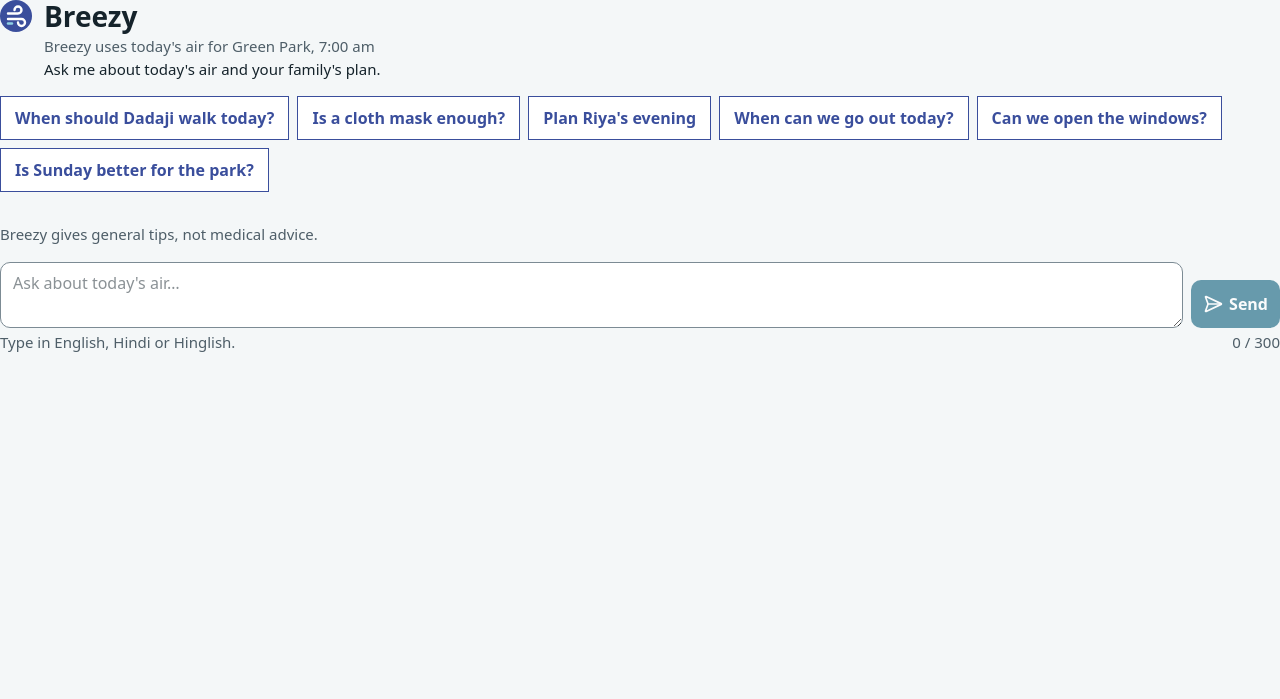
it: BreezyView › replies with a card, confirms the add naming the person, then offers WhatsApp
Type "Can Dadaji go to the temple at 7 am?" into the text box named "Your question for Breezy" at x=592, y=295, box left=0, top=262, right=1183, bottom=328
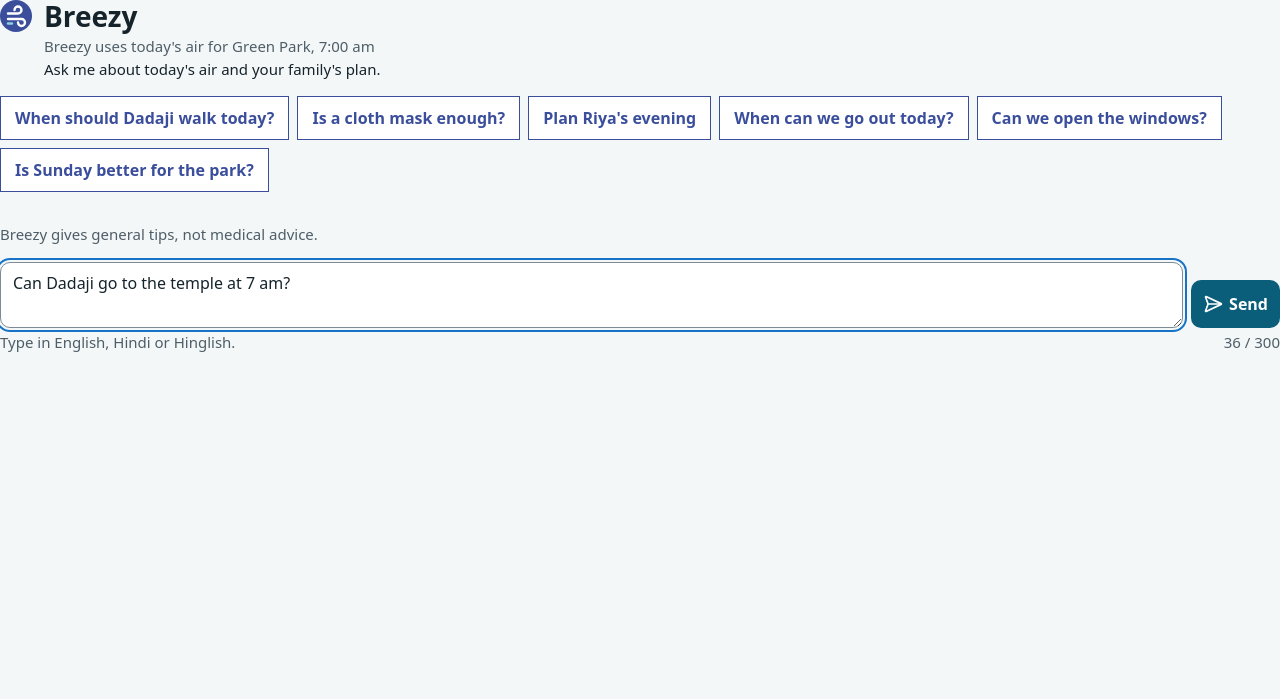
Click the button "Send" at x=1236, y=304, box left=1191, top=280, right=1279, bottom=328
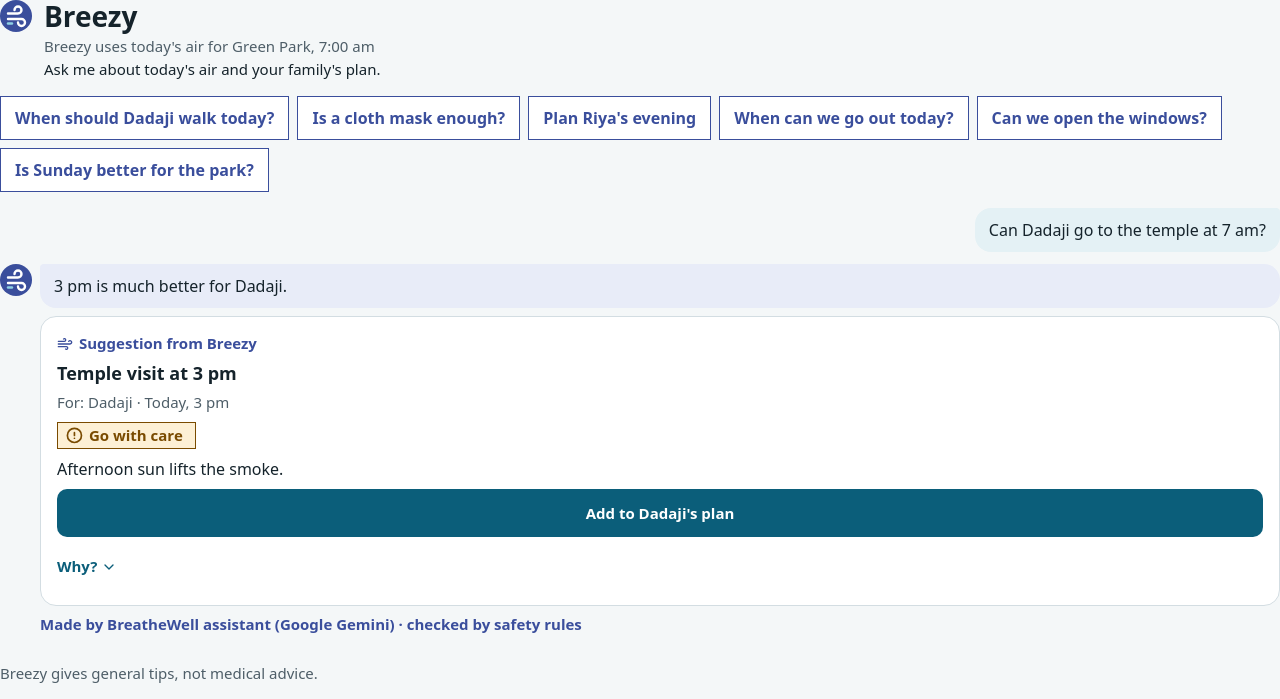
Result: the text "3 pm is much better for Dadaji." is shown at left=54, top=275, right=287, bottom=297
Result: the text "For: Dadaji · Today, 3 pm" is shown at left=57, top=392, right=229, bottom=412
Result: the text "Go with care" is shown at left=57, top=422, right=196, bottom=448
Click the button "Add to Dadaji's plan" at x=660, y=512, box left=57, top=488, right=1263, bottom=536
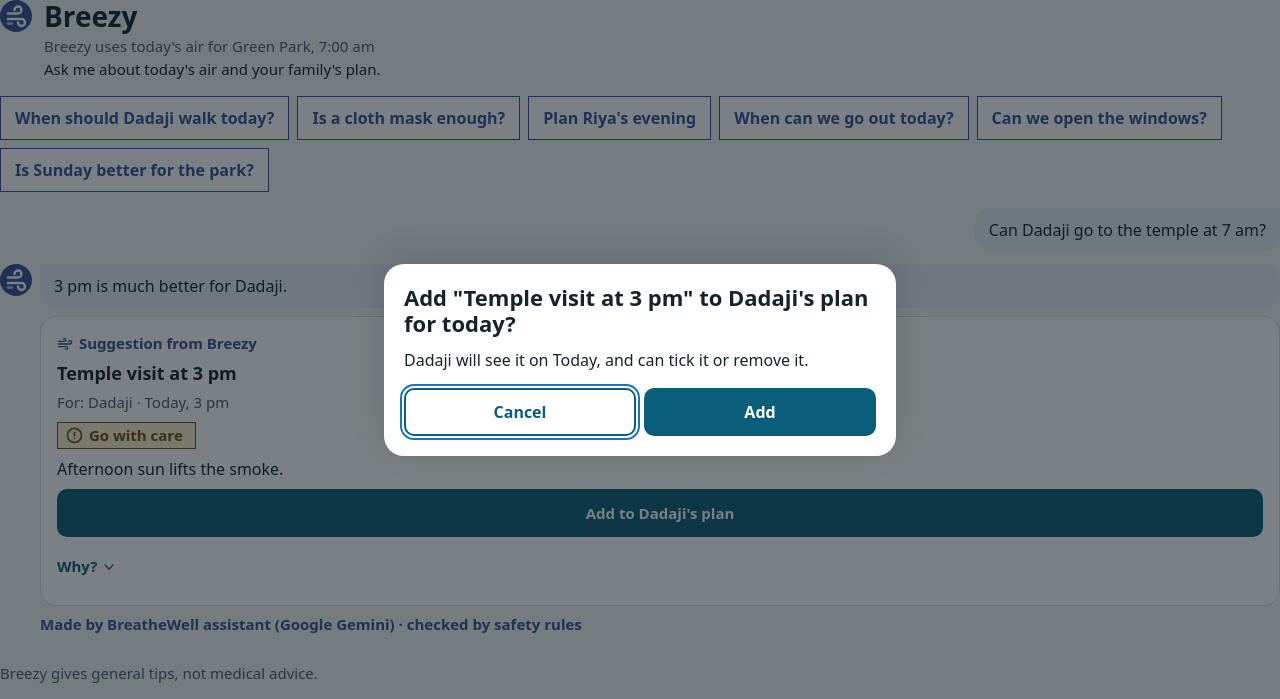
Result: the heading "Add \"Temple visit at 3 pm\" to Dadaji's plan for today?" is shown at left=404, top=284, right=876, bottom=336
Result: the text "Dadaji will see it on Today, and can tick it or remove it." is shown at left=404, top=348, right=876, bottom=372
Click the button "Add" at x=760, y=412, box left=644, top=388, right=876, bottom=436
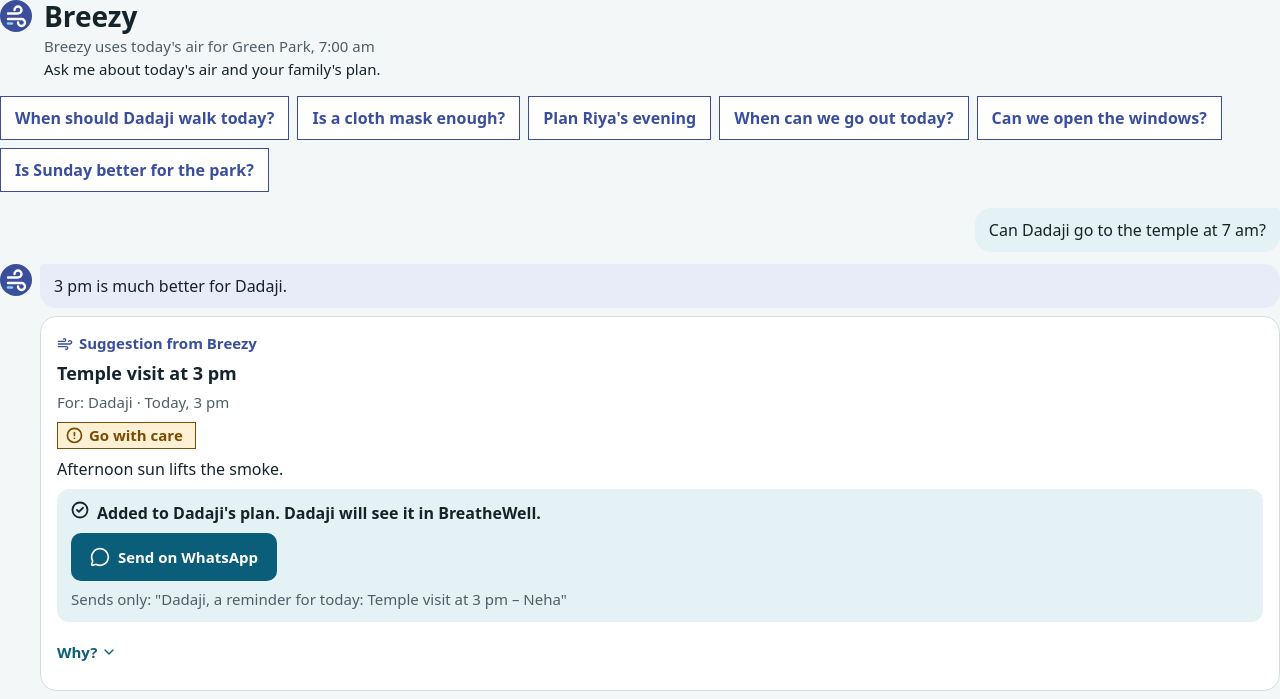
Result: the text "Added to Dadaji's plan. Dadaji will see it in BreatheWell." is shown at left=71, top=500, right=541, bottom=524
